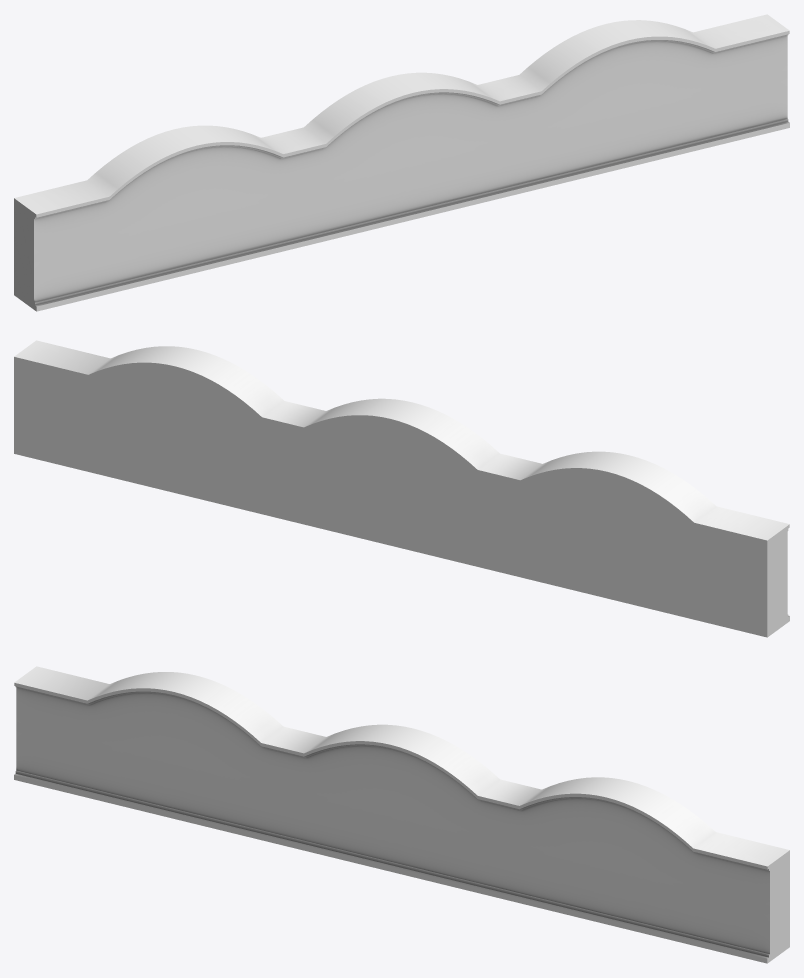
Rendered from roof_1.glb.
3 views of the same model, one above another, from view 1: azimuth 30°, elevation 25°; view 2: azimuth 150°, elevation 25°; view 3: azimuth 330°, elevation 25° (orthographic).
Parts seen in each view (by area): view 1: roof_1; view 2: roof_1; view 3: roof_1.
Part boxes in pixels (box(x1,y1,x2,y2)): roof_1: box(14, 14, 789, 311); roof_1: box(14, 340, 789, 637); roof_1: box(14, 666, 789, 963).
Size of the model in its own units: 6.5 by 1.05 by 0.3373.
1 material, 1 textured.
